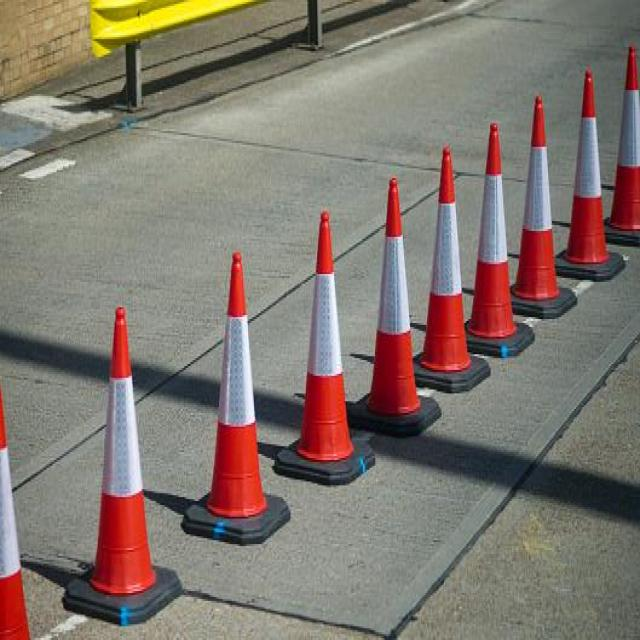Cone: (64, 306, 186, 628), (186, 251, 289, 544), (278, 210, 376, 486), (347, 178, 442, 437), (411, 147, 489, 389), (461, 123, 535, 360), (503, 96, 577, 323), (553, 70, 623, 286)
